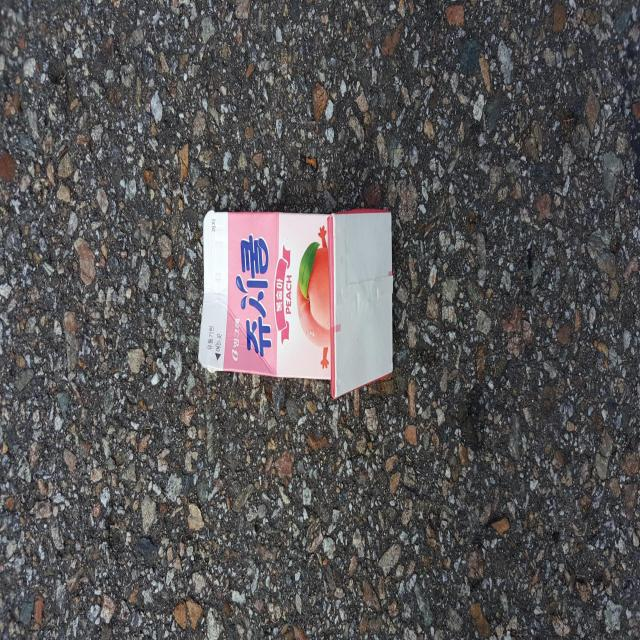paperpack: (198, 209, 394, 397)
